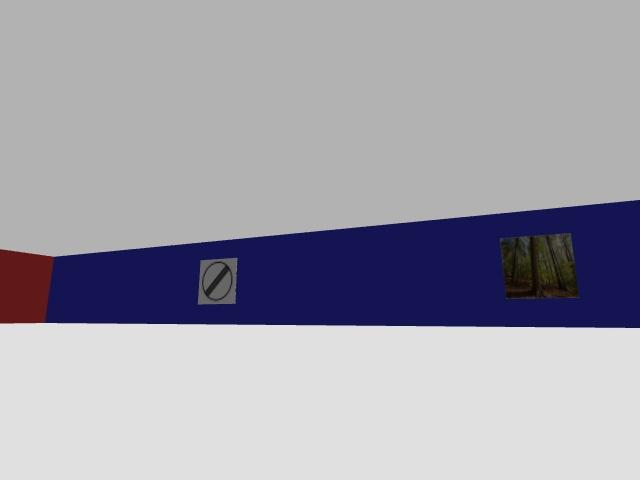fastsign: (198, 258, 236, 304)
